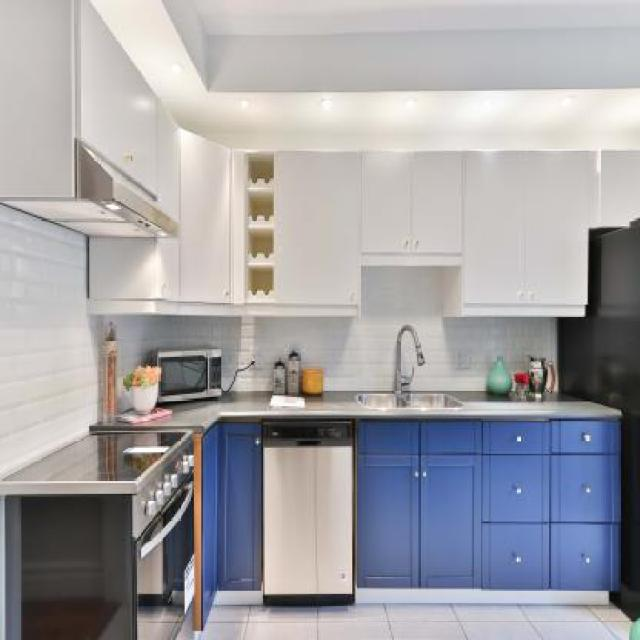Floor: (198, 599, 634, 640)
